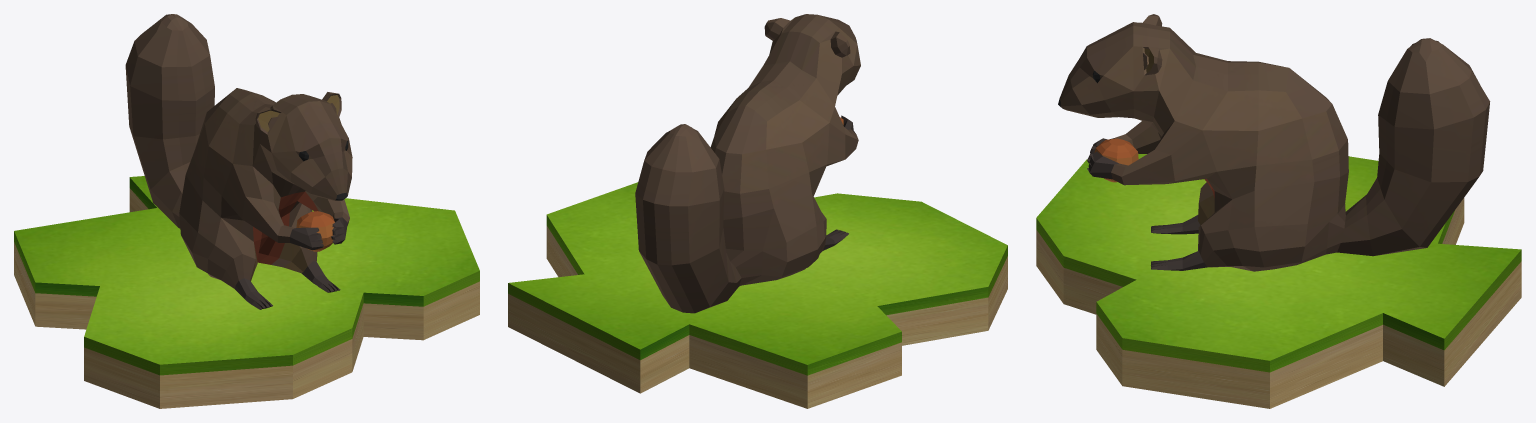
The model's file is result.glb.
3 renders of one model, left to right at view 1: azimuth 30°, elevation 25°; view 2: azimuth 150°, elevation 25°; view 3: azimuth 270°, elevation 25°, orthographic. The views are drawn at different scales.
Parts seen in each view (by area): view 1: Cube.002; view 2: Cube.002; view 3: Cube.002.
Part boxes in pixels (box(x1,y1,x2,y2)): Cube.002: box(14, 14, 479, 408); Cube.002: box(508, 14, 1007, 408); Cube.002: box(1036, 14, 1521, 408).
Size of the model in its own units: 8.7 by 5.11 by 8.25.
Materials: 1 (1 with a texture image).
